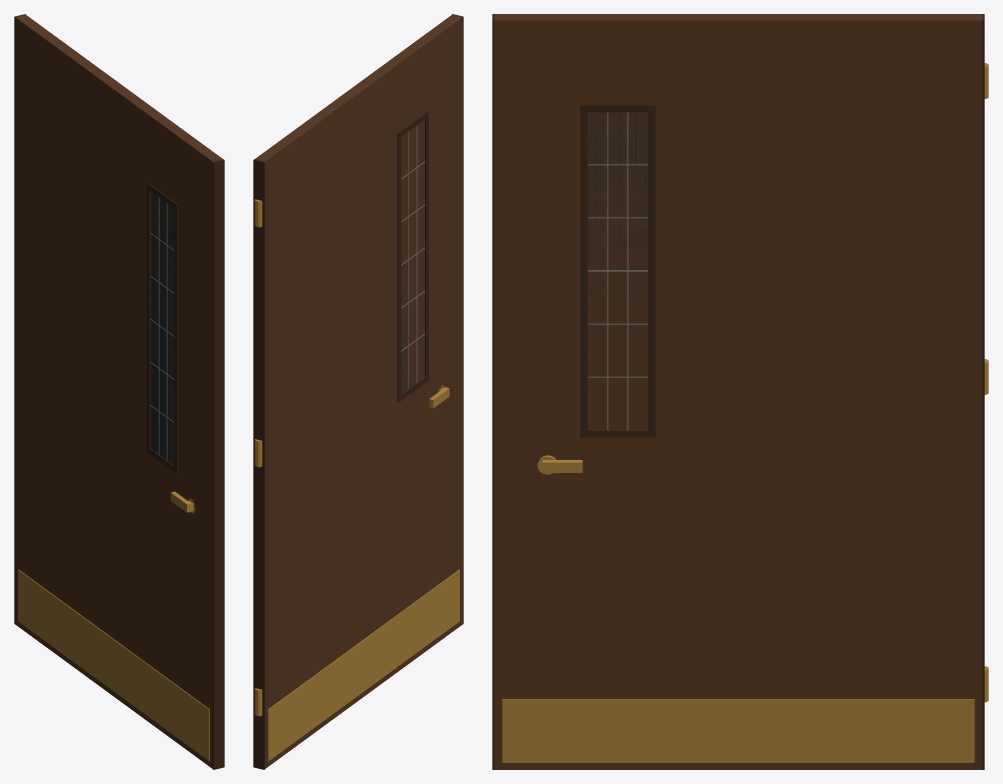
File: SM_80s_RoomDoor_196.glb
3 renders of one model, left to right at view 1: azimuth 30°, elevation 25°; view 2: azimuth 150°, elevation 25°; view 3: azimuth 270°, elevation 25°, orthographic. The views are drawn at different scales.
Visible parts, largest first — view 1: SM_80s_RoomDoor_196; view 2: SM_80s_RoomDoor_196; view 3: SM_80s_RoomDoor_196.
Part boxes in pixels (x1=…): SM_80s_RoomDoor_196: x1=14, y1=14, x2=224, y2=769; SM_80s_RoomDoor_196: x1=253, y1=14, x2=463, y2=769; SM_80s_RoomDoor_196: x1=492, y1=14, x2=988, y2=769.
Bounding box in the file's own units: 0.134 × 3.29 × 1.98.
